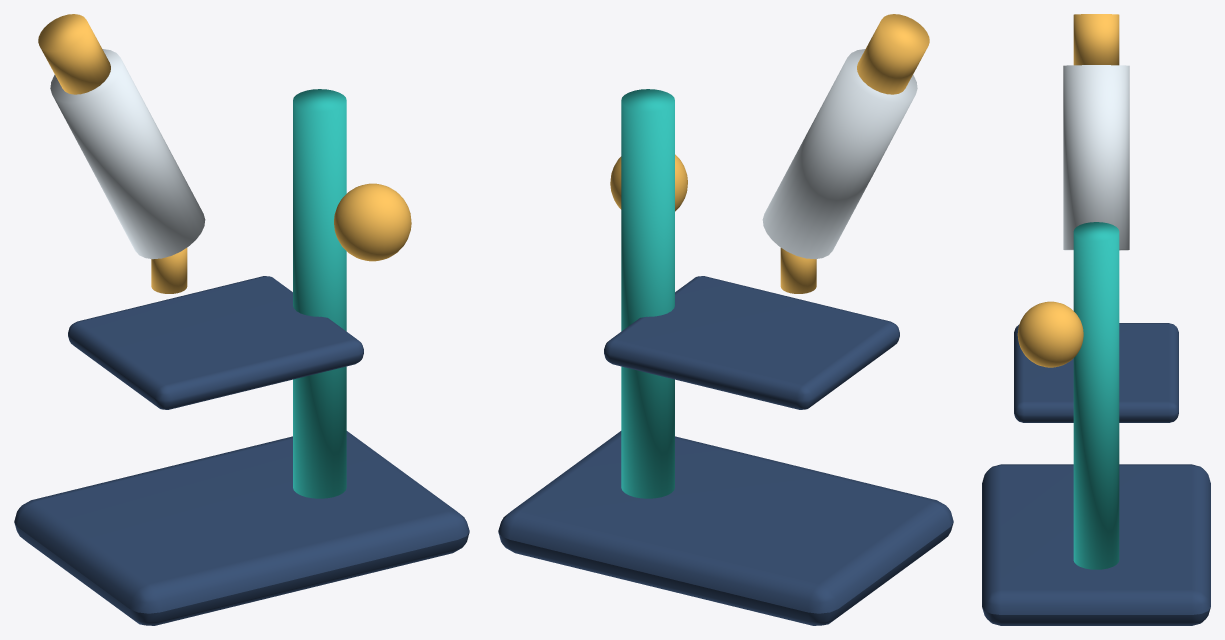
The model's file is microscope-quality.glb.
3 views of the same model, side by side, from view 1: azimuth 30°, elevation 25°; view 2: azimuth 150°, elevation 25°; view 3: azimuth 270°, elevation 25° (orthographic). The views are drawn at different scales.
Parts seen in each view (by area): view 1: Base; view 2: Base; view 3: Base.
Part boxes in pixels (x1=…): Base: x1=14, y1=14, x2=469, y2=625; Base: x1=498, y1=14, x2=953, y2=625; Base: x1=982, y1=14, x2=1210, y2=625.
Bounding box in the file's own units: 1.42 × 2.1 × 0.9.
